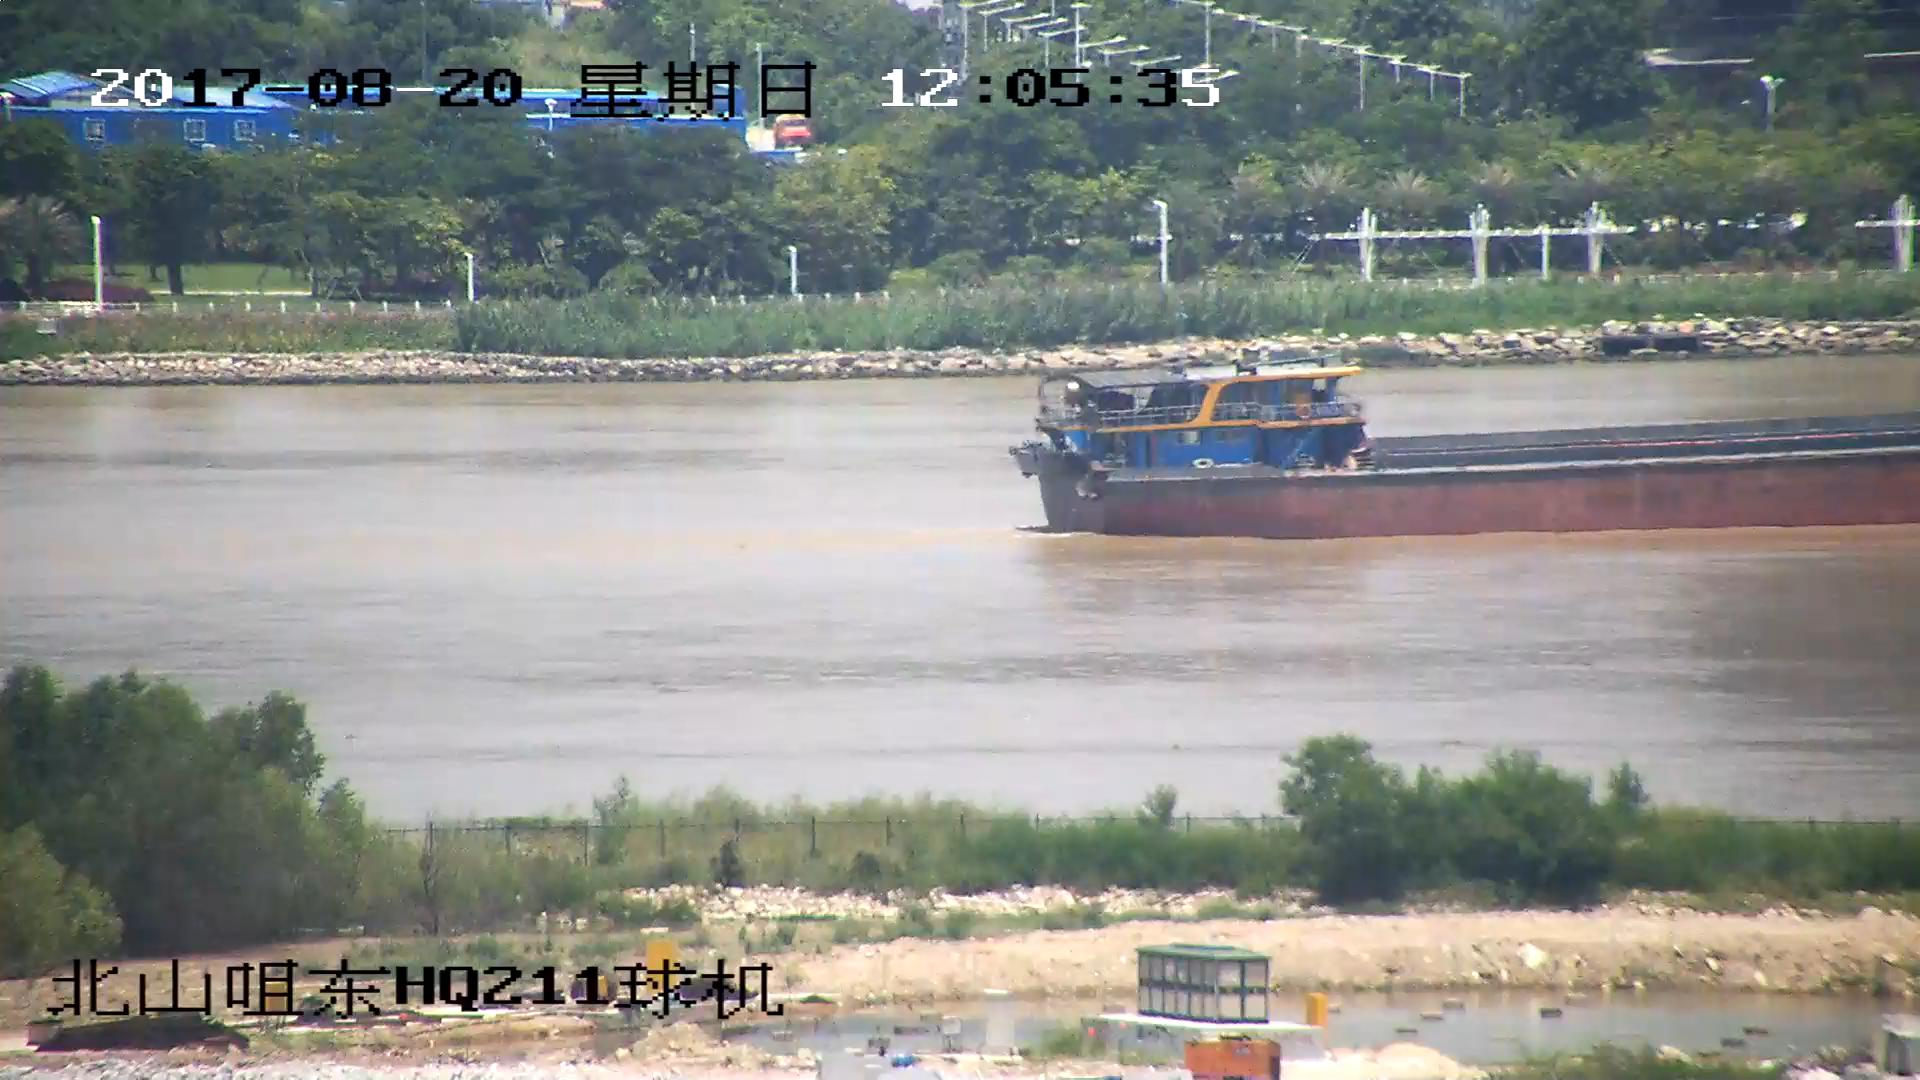bulk cargo carrier: (1017, 358, 1920, 540)
